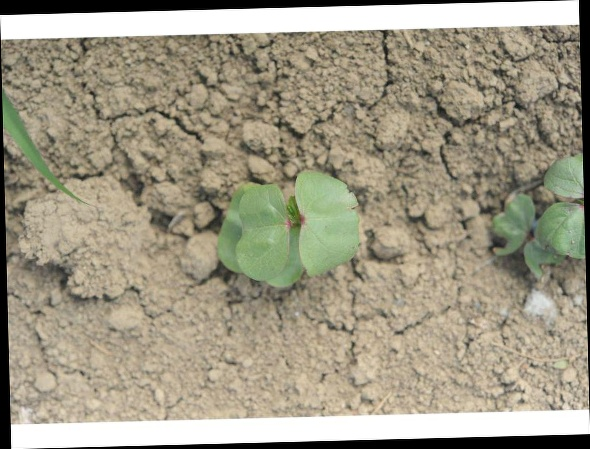cotton: (213, 168, 361, 289), (494, 153, 585, 276)
